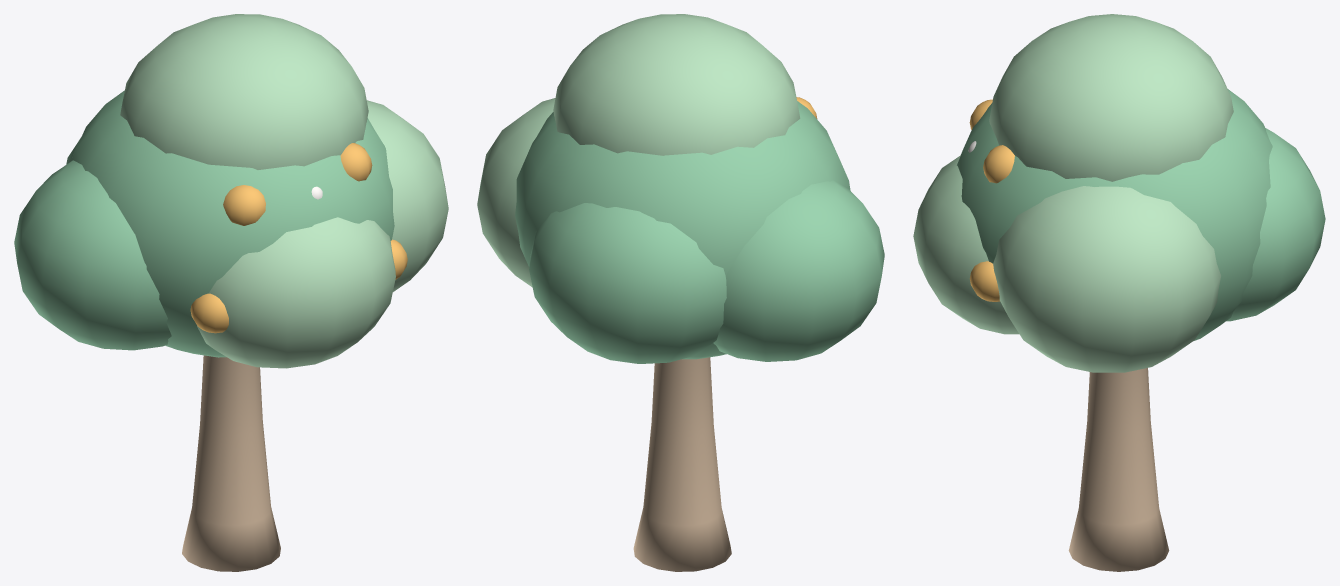
Rendered from OrangeTreeRipe.fbx.
3 views of the same model, side by side, from view 1: azimuth 30°, elevation 25°; view 2: azimuth 150°, elevation 25°; view 3: azimuth 270°, elevation 25° (orthographic).
Parts seen in each view (by area): view 1: OrangeTree_Body, RipeOranges; view 2: OrangeTree_Body; view 3: OrangeTree_Body, RipeOranges.
Boxes of the visible parts, x1,y1,x2,y2 form: OrangeTree_Body: [14, 14, 448, 571]; RipeOranges: [190, 143, 407, 333]; OrangeTree_Body: [477, 14, 884, 571]; OrangeTree_Body: [913, 14, 1325, 571]; RipeOranges: [969, 99, 1014, 301].
Size of the model in its own units: 2.71 by 3.46 by 2.46.
